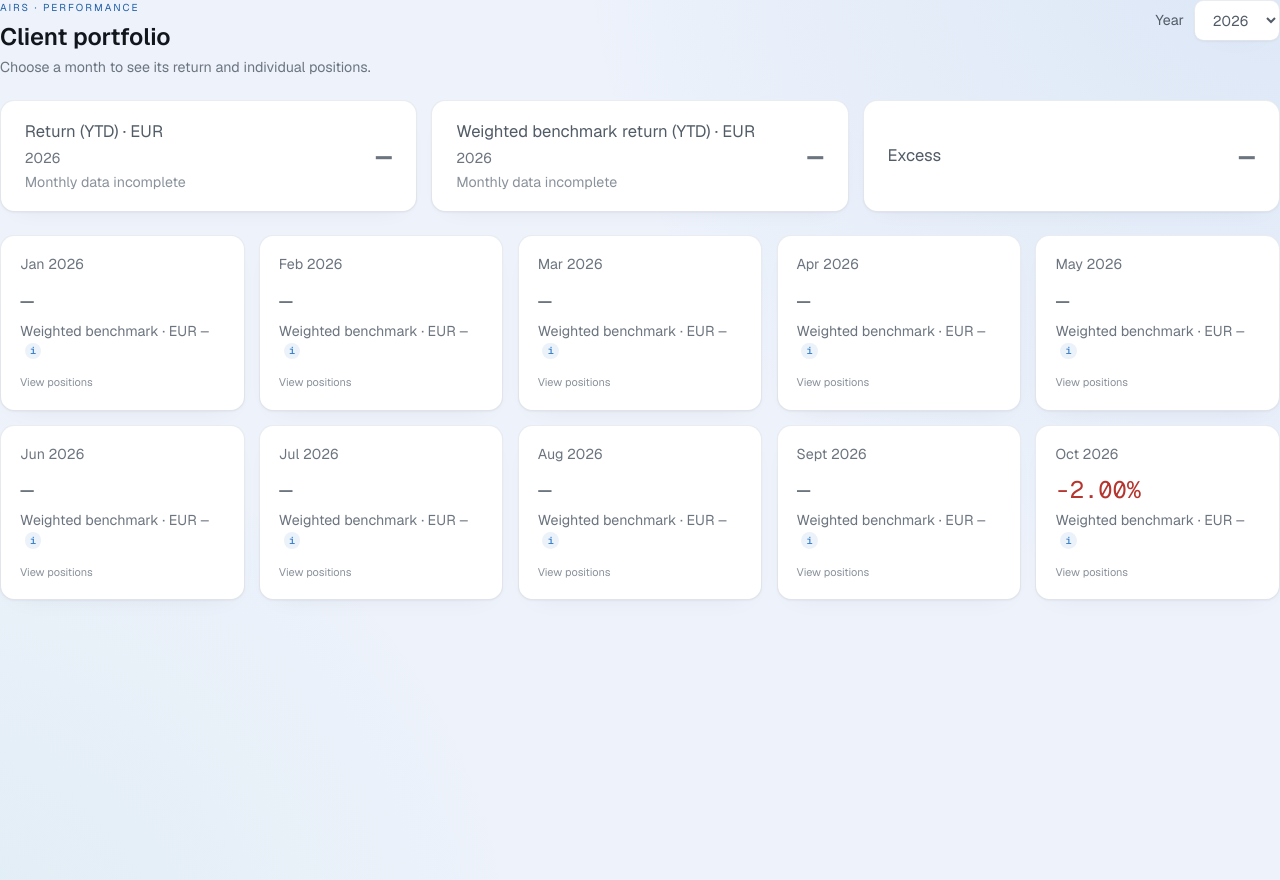
Test: AIRS monthly report › does not launch AIRS when persistent storage cannot be read
The width and height of the screenshot is (1280, 880).
Click the button "Oct 2026 -2.00% Weighted benchmark · EUR — i View positions".
click(1158, 512)  # box [1035,425,1279,600]
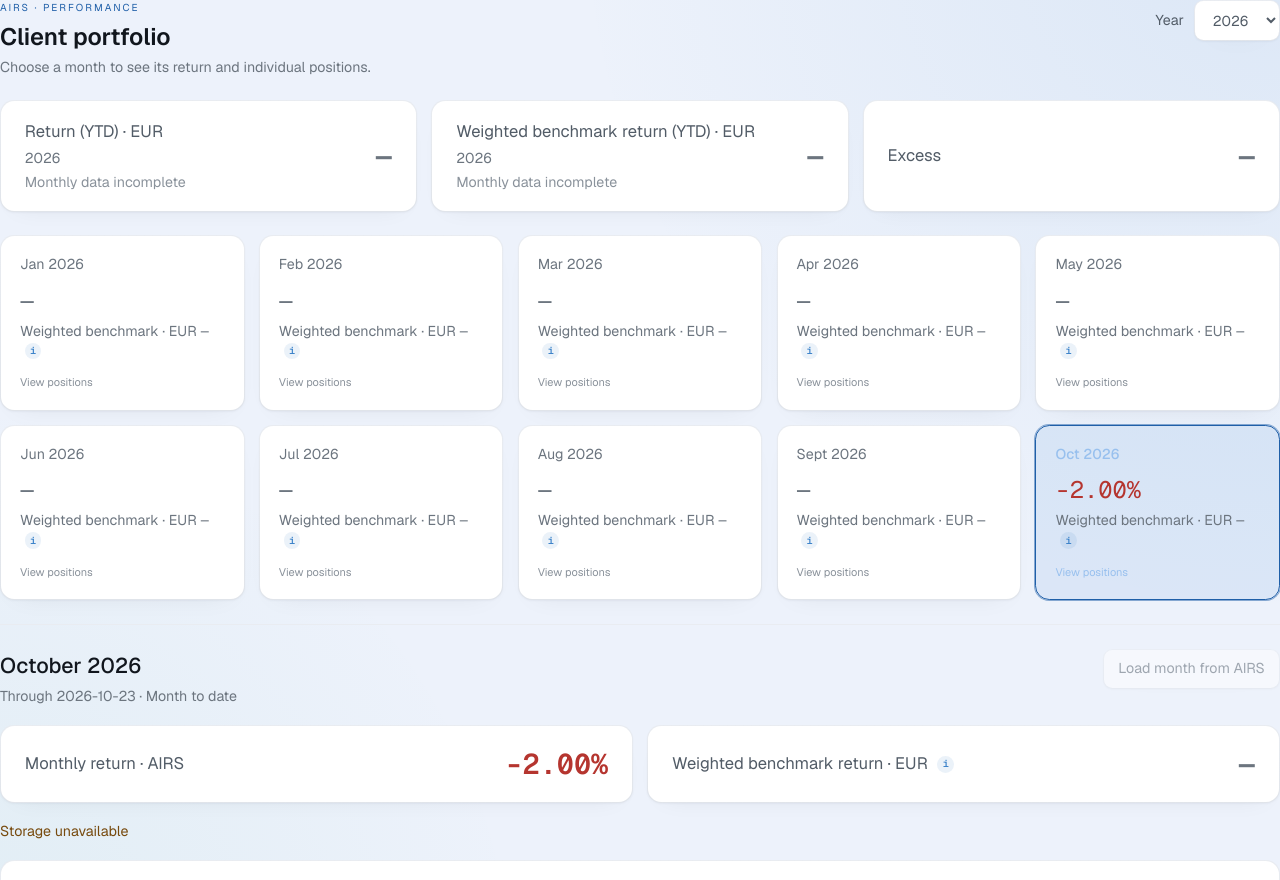
Now the text "Storage unavailable" is shown, box [0,822,128,840]
